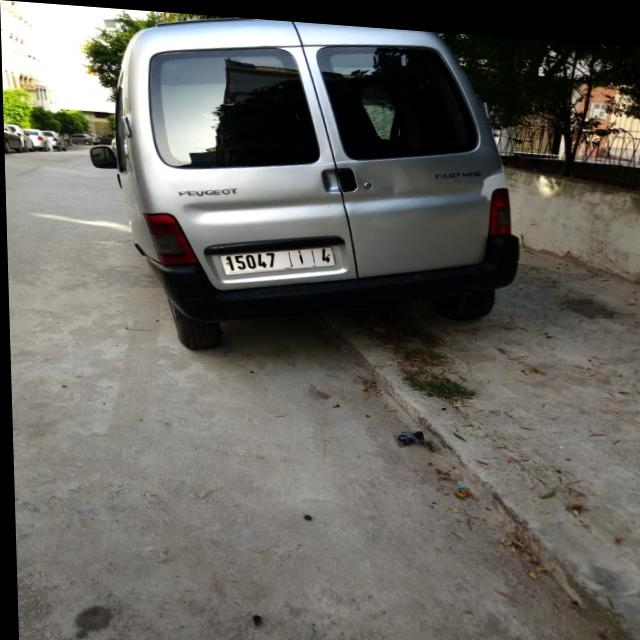License-Plate: (219, 242, 334, 272)
